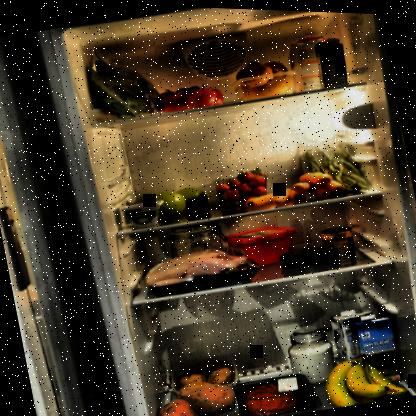apple: (130, 179, 212, 222)
banana: (320, 340, 408, 407)
beef: (240, 375, 304, 415)
blueberries: (276, 235, 342, 269)
butter: (223, 217, 301, 271)
carrot: (287, 161, 352, 203), (243, 185, 292, 210)
chicken: (134, 232, 264, 302)
corn: (318, 222, 356, 256)
green_beans: (288, 126, 368, 204)
heavy_cream: (314, 35, 352, 87)
milk: (346, 304, 406, 389), (327, 302, 382, 373)
onion: (231, 48, 301, 104)
potato: (166, 351, 238, 392)
spinach: (78, 32, 173, 129)
strawberries: (213, 164, 268, 208)
sweet_potato: (153, 374, 244, 415)
tomato: (152, 74, 228, 117)
